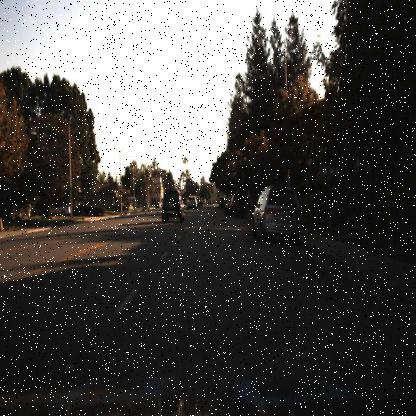car: (249, 180, 302, 238), (160, 187, 186, 223), (49, 200, 73, 216), (184, 194, 199, 212), (141, 202, 150, 215)
